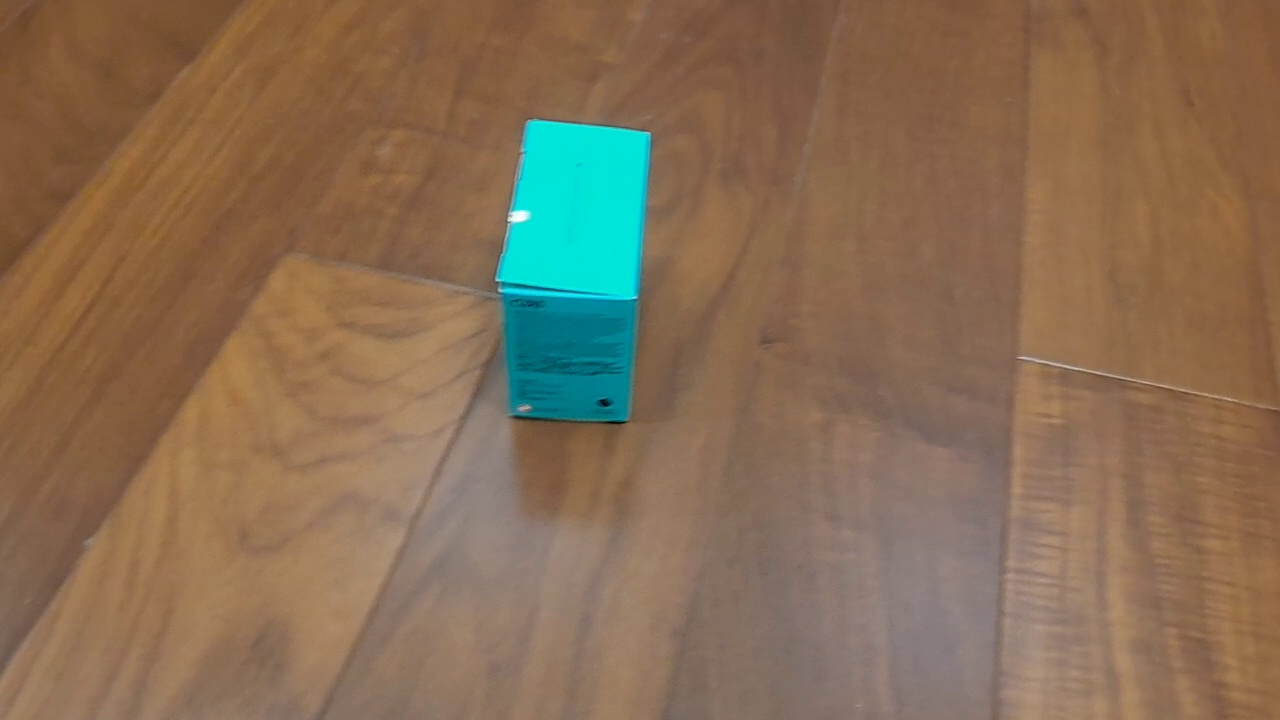webcam: (492, 117, 654, 426)
